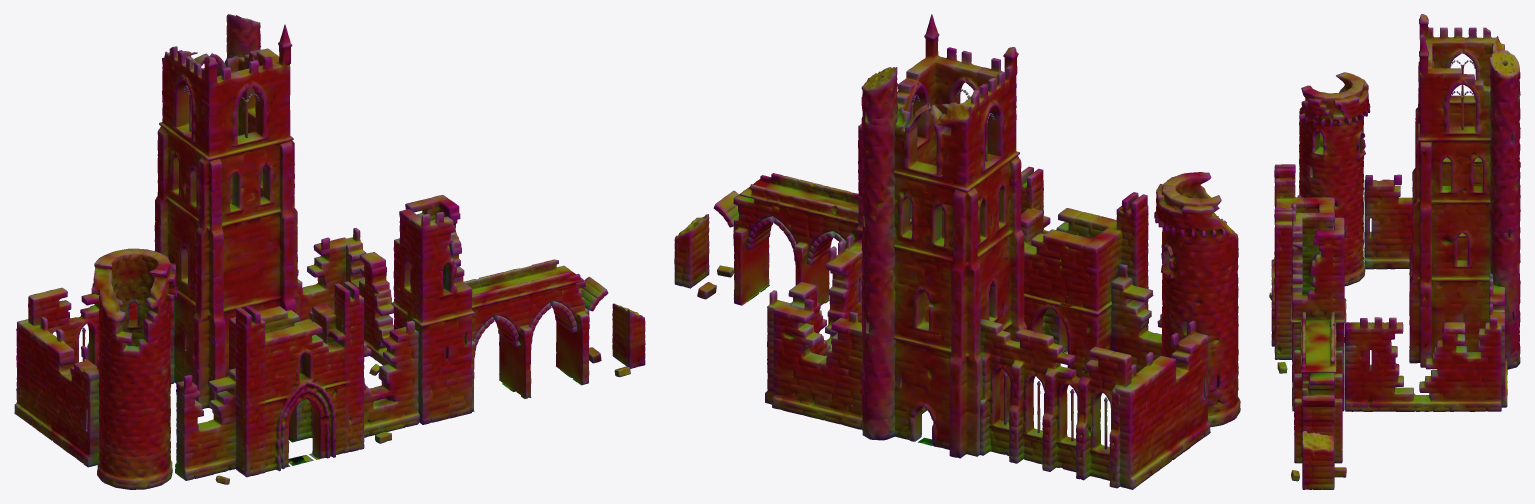
File: castle.glb
3 renders of one model, left to right at view 1: azimuth 30°, elevation 25°; view 2: azimuth 150°, elevation 25°; view 3: azimuth 270°, elevation 25°, orthographic. The views are drawn at different scales.
Parts seen in each view (by area): view 1: Castle_Ruin; view 2: Castle_Ruin; view 3: Castle_Ruin.
Part boxes in pixels (x1,y1,x2,y2): Castle_Ruin: (14,14,645,489); Castle_Ruin: (674,14,1240,489); Castle_Ruin: (1269,14,1520,489).
Size of the model in its own units: 83.59 by 55 by 38.39.
